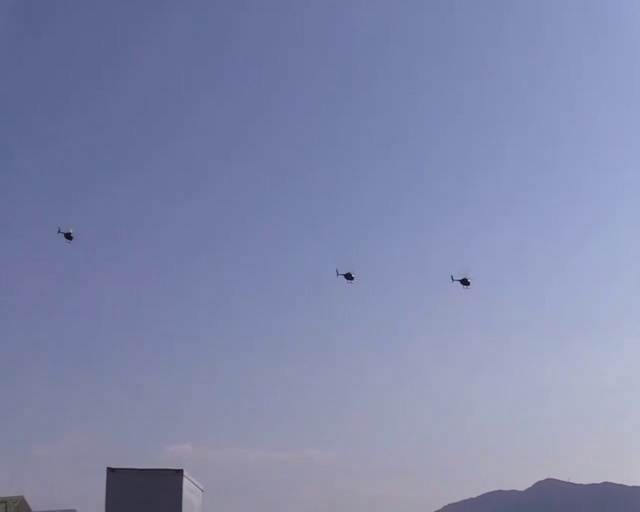HELICOPTER: (450, 273, 471, 288)
